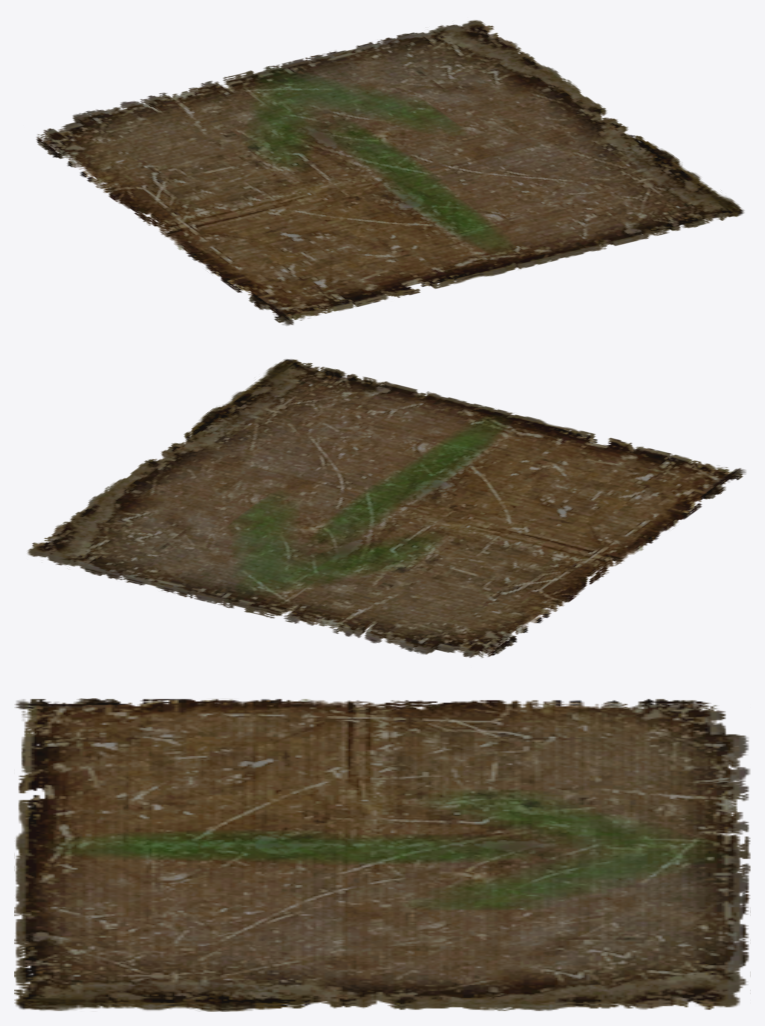
File: ArrowGrn.glb
3 renders of one model, top to bottom at view 1: azimuth 30°, elevation 25°; view 2: azimuth 150°, elevation 25°; view 3: azimuth 270°, elevation 25°, orthographic. The views are drawn at different scales.
Visible parts, largest first — view 1: _ArrowGrn; view 2: _ArrowGrn; view 3: _ArrowGrn.
Boxes of the visible parts, x1,y1,x2,y2 form: _ArrowGrn: (36,20,743,325); _ArrowGrn: (27,359,745,657); _ArrowGrn: (14,698,750,1011).
Bounding box in the file's own units: 1.37 × 0.0226 × 1.37.
2 materials, 2 textured.
